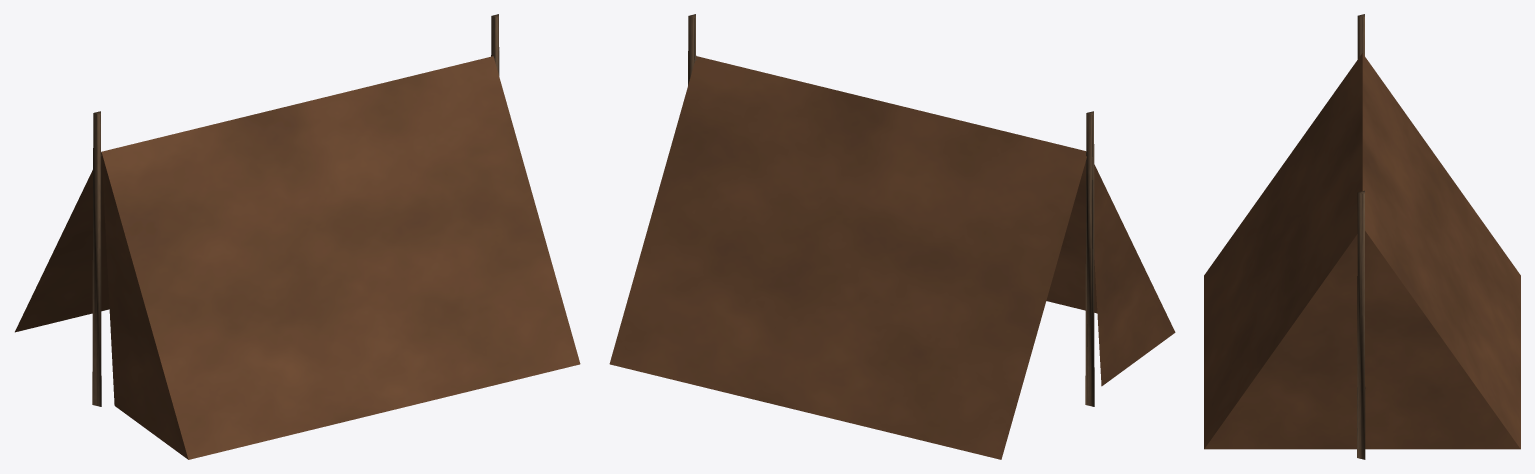
File: Tent_Pilgrim_3_LOD2.gltf
The picture shows the model from 3 angles, left to right: view 1: azimuth 30°, elevation 25°; view 2: azimuth 150°, elevation 25°; view 3: azimuth 270°, elevation 25°; orthographic projection. The views are drawn at different scales.
Parts seen in each view (by area): view 1: Tent_Pilgrim_3_LOD2; view 2: Tent_Pilgrim_3_LOD2; view 3: Tent_Pilgrim_3_LOD2.
Boxes of the visible parts, x1=… form: Tent_Pilgrim_3_LOD2: x1=15, y1=14, x2=580, y2=459; Tent_Pilgrim_3_LOD2: x1=609, y1=14, x2=1175, y2=459; Tent_Pilgrim_3_LOD2: x1=1204, y1=14, x2=1520, y2=459.
Bounding box in the file's own units: 2.7 × 1.85 × 2.
Materials: 2 (2 with a texture image).
